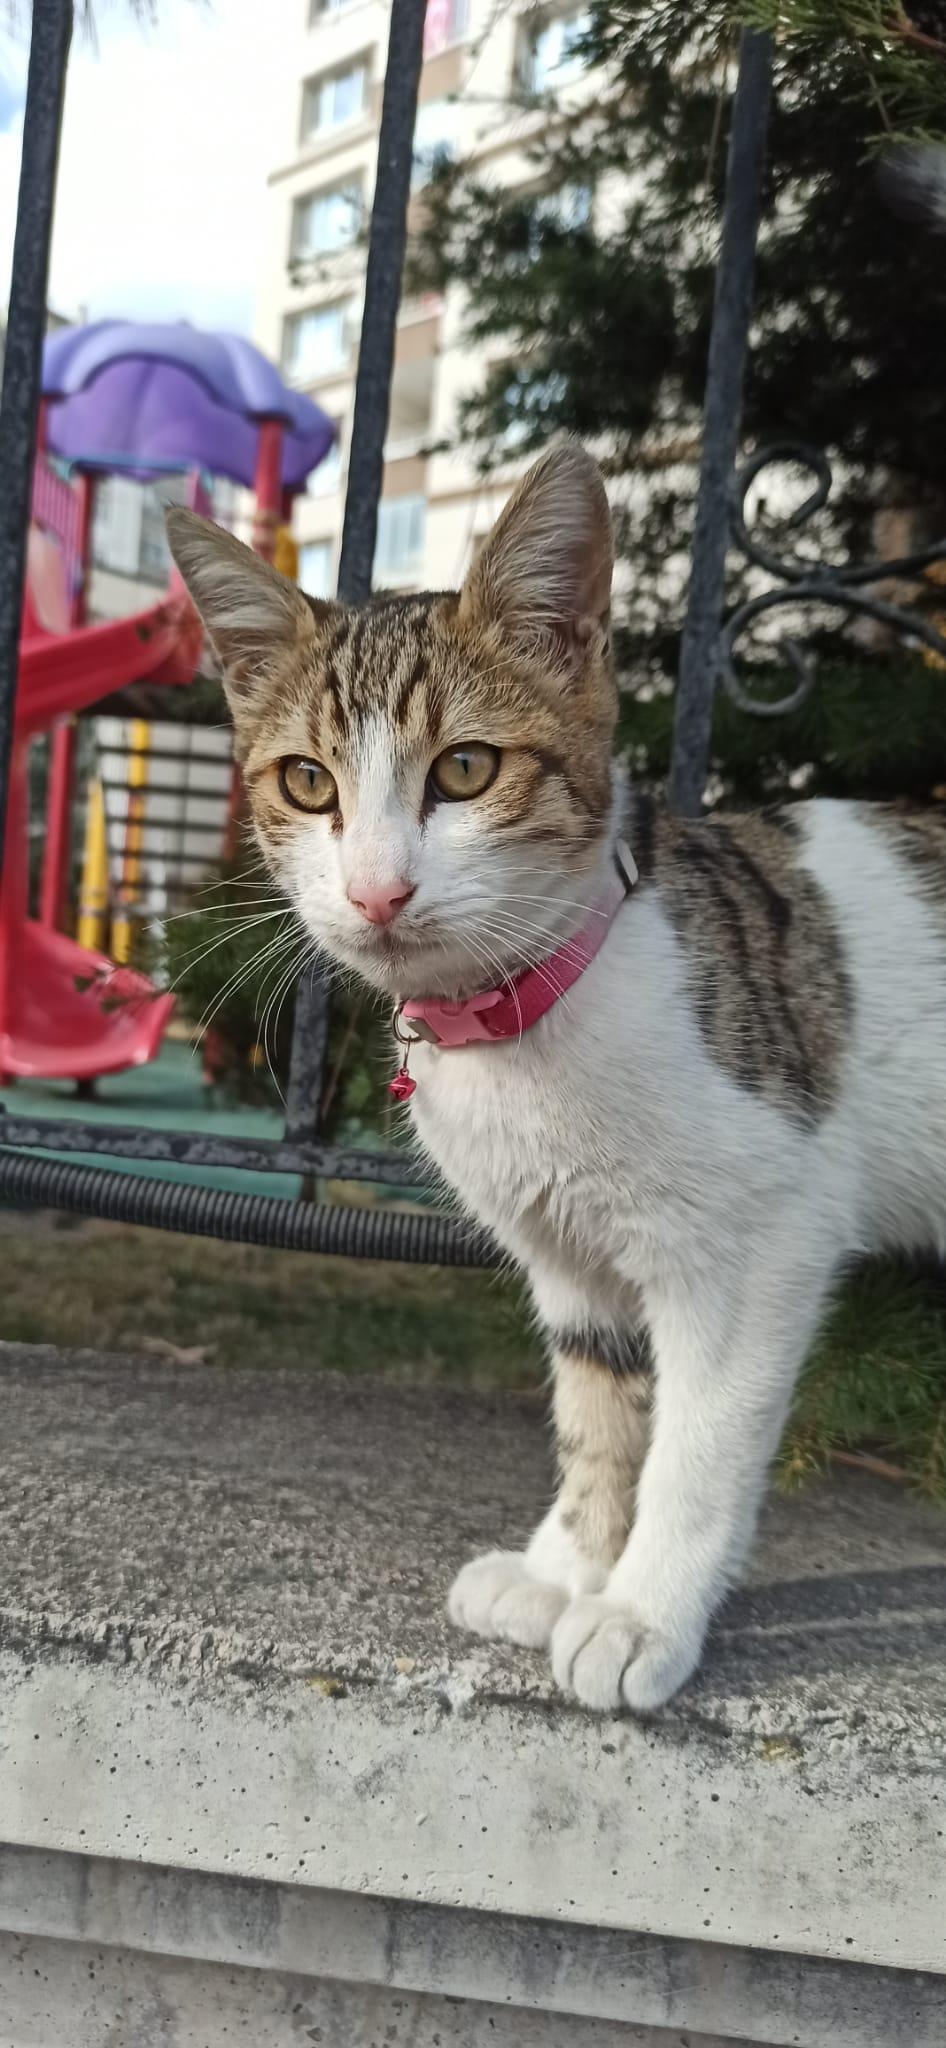kedo: (176, 461, 946, 1704)
